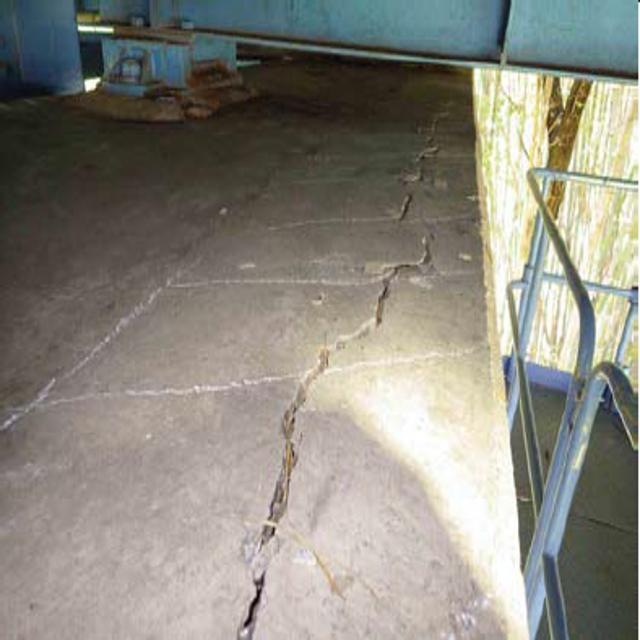crack: (233, 123, 458, 640)
